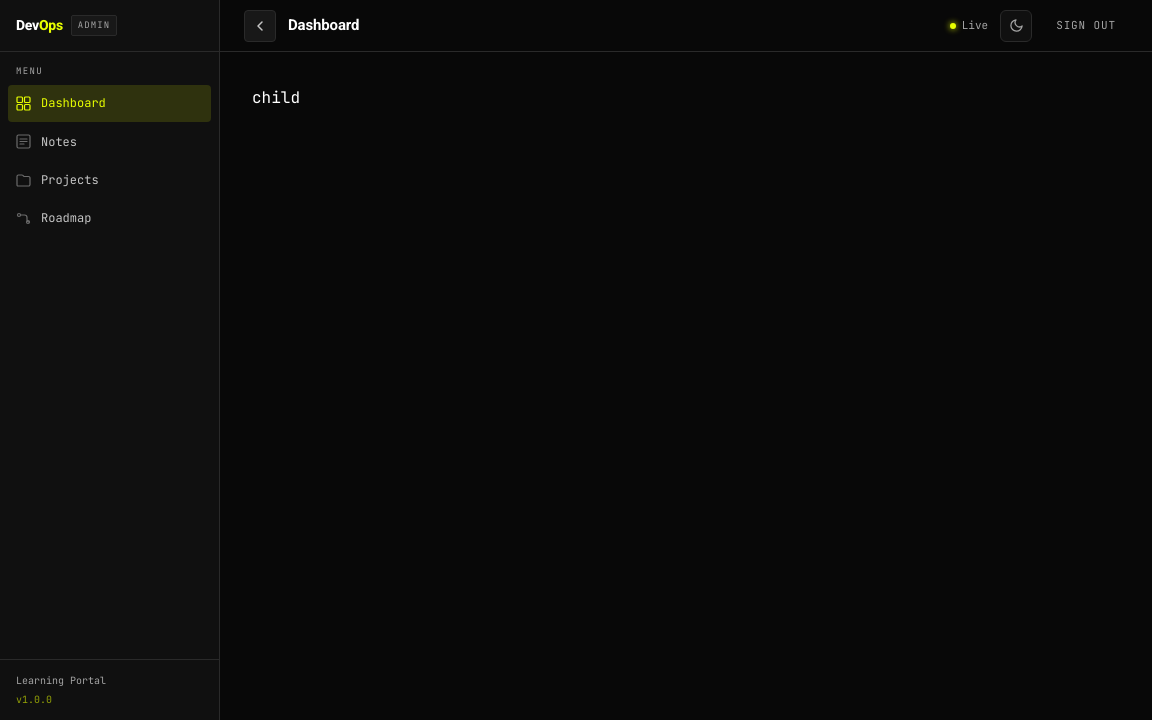
Scenario: AdminShell › collapses sidebar when toggle is clicked
Click the button named "collapse navigation sidebar": (260, 26) top-left (244, 10), bottom-right (276, 42)
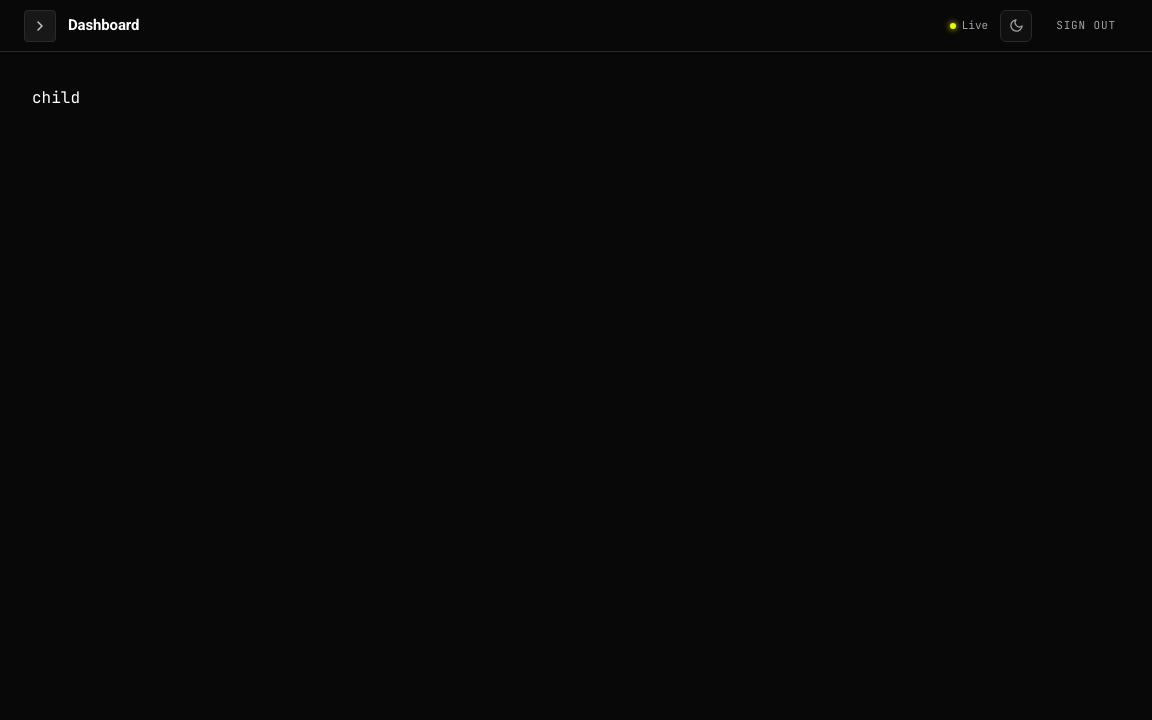
expect the button named "expand navigation sidebar" is collapsed: met, box top-left (24, 10), bottom-right (56, 42)
